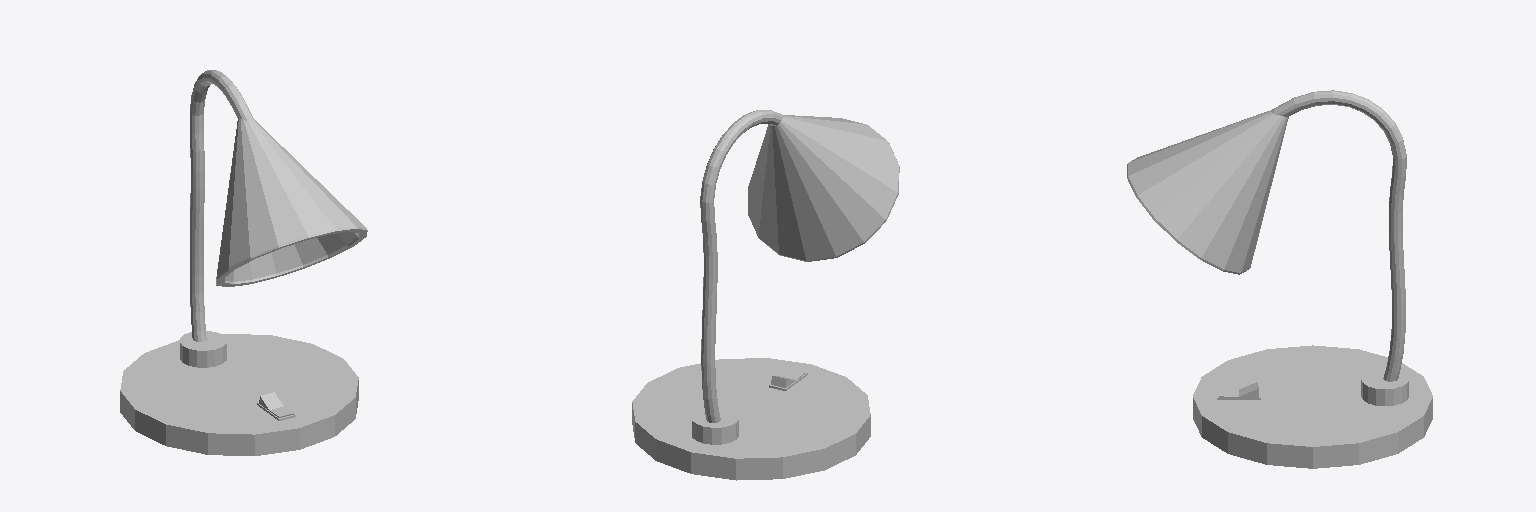
The model's file is desk_lamp.obj.
3 renders of one model, left to right at view 1: azimuth 30°, elevation 25°; view 2: azimuth 150°, elevation 25°; view 3: azimuth 270°, elevation 25°, orthographic.
Parts seen in each view (by area): view 1: Cylinder, Cone, BezierCurve, Cylinder.001; view 2: Cylinder, Cone, BezierCurve, Cylinder.001; view 3: Cylinder, Cone, BezierCurve, Cylinder.001.
Part boxes in pixels (bbox=[...]): Cylinder: bbox=[120, 334, 358, 455]; Cone: bbox=[216, 118, 367, 286]; BezierCurve: bbox=[190, 70, 253, 341]; Cylinder.001: bbox=[180, 331, 226, 367]; Cylinder: bbox=[632, 358, 870, 480]; Cone: bbox=[748, 115, 899, 261]; BezierCurve: bbox=[700, 110, 783, 422]; Cylinder.001: bbox=[692, 408, 738, 444]; Cylinder: bbox=[1193, 345, 1432, 468]; Cone: bbox=[1127, 109, 1288, 274]; BezierCurve: bbox=[1272, 90, 1406, 381]; Cylinder.001: bbox=[1361, 369, 1408, 405].
Size of the model in its own units: 1 by 1.49 by 1.27.